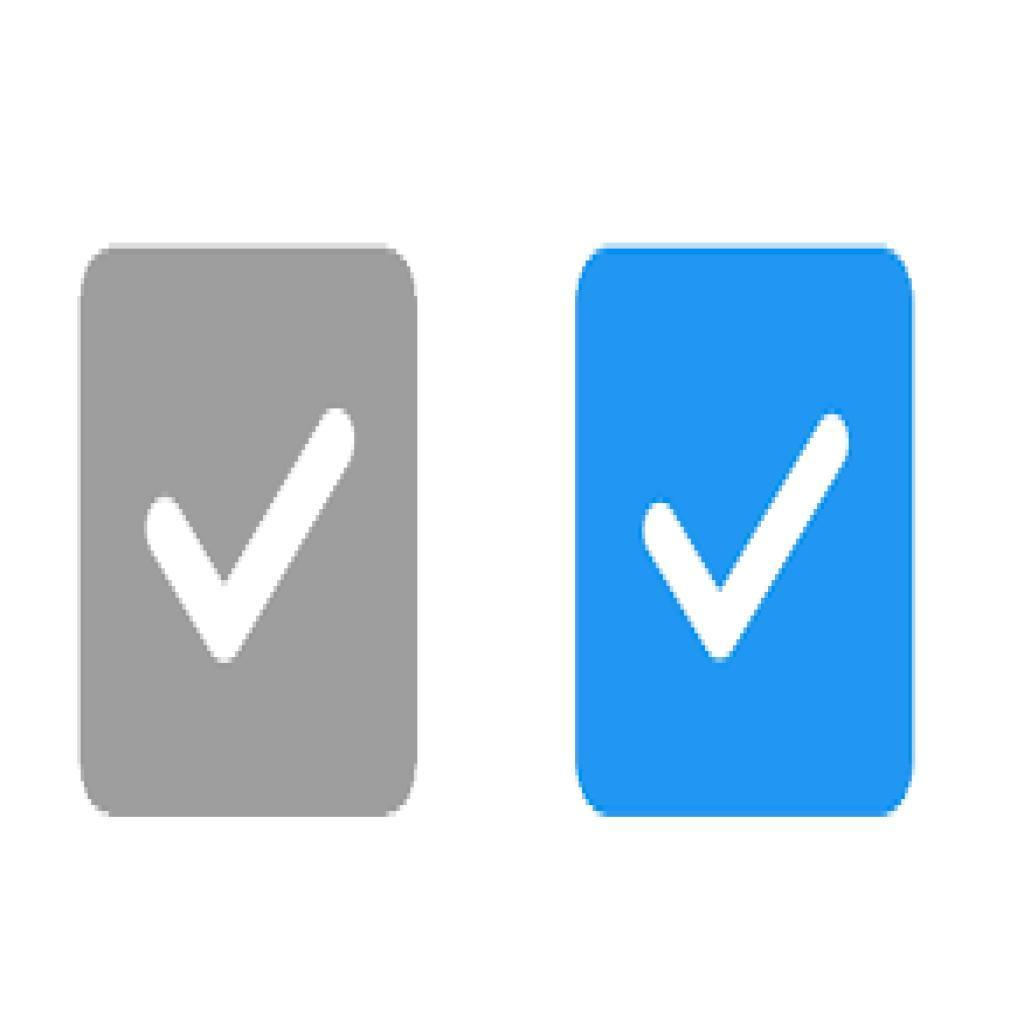checkbox: (574, 246, 917, 820), (80, 248, 416, 815)
